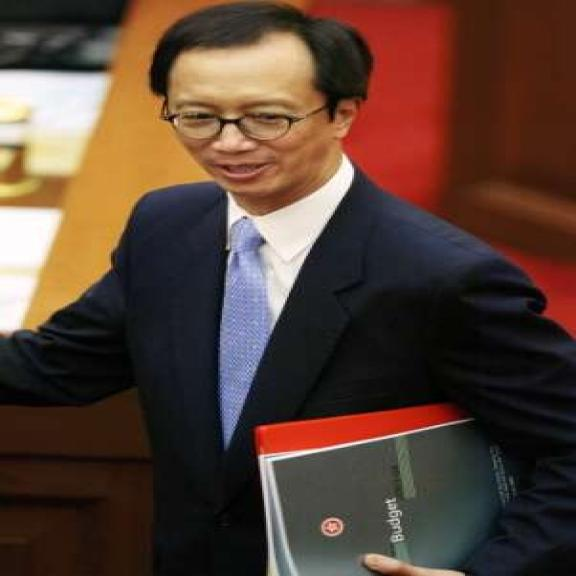face: (161, 52, 375, 201)
